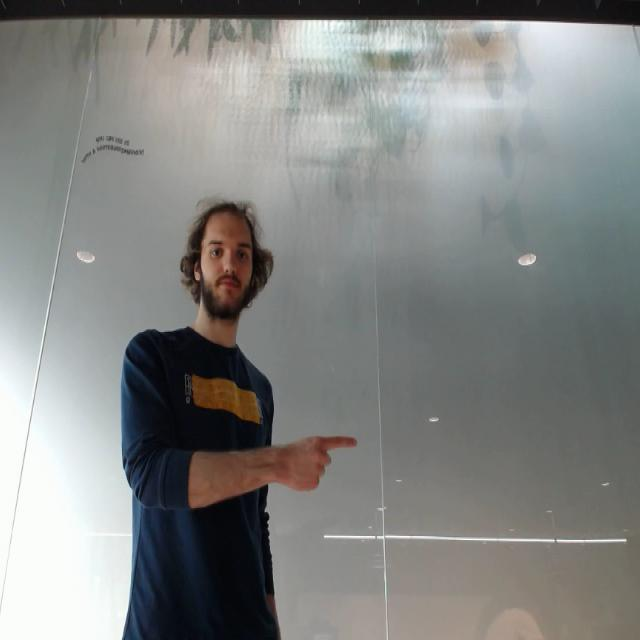right: (270, 431, 362, 498)
